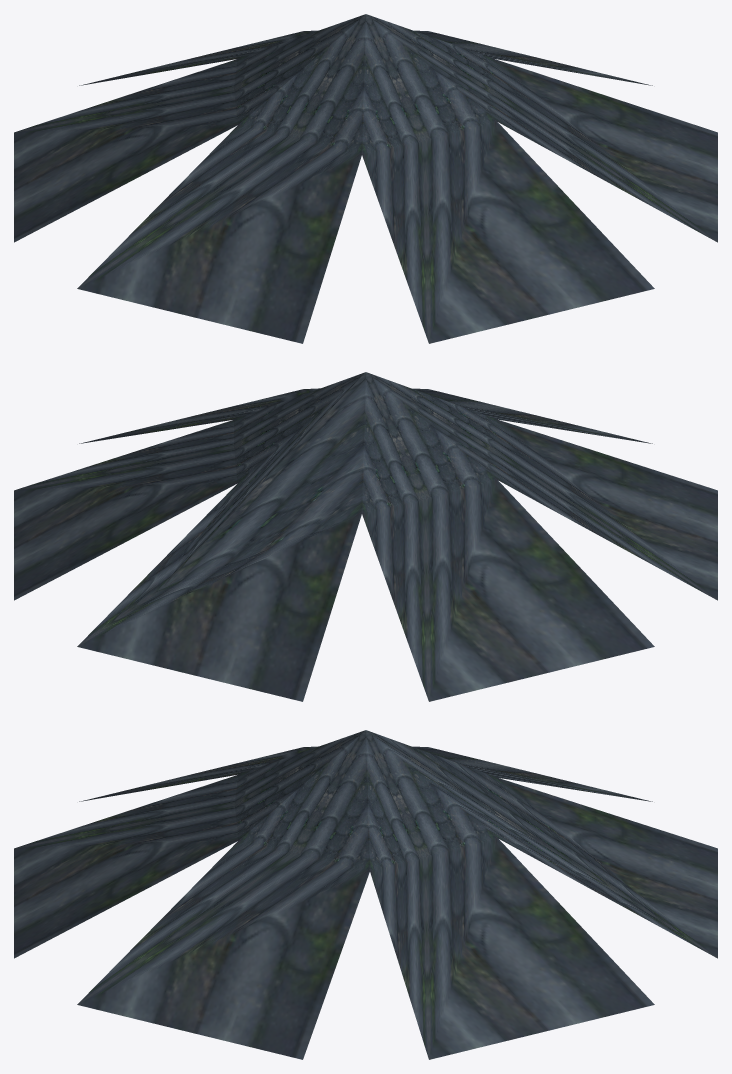
The model's file is BH04_dideng_02_1.FBX.
The picture shows the model from 3 angles, top to bottom: view 1: azimuth 30°, elevation 25°; view 2: azimuth 150°, elevation 25°; view 3: azimuth 270°, elevation 25°; orthographic projection.
Visible parts, largest first — view 1: BH04_dideng_02; view 2: BH04_dideng_02; view 3: BH04_dideng_02.
Boxes of the visible parts, box(x1,y1,x2,y2) form: BH04_dideng_02: box(14, 14, 717, 343); BH04_dideng_02: box(14, 372, 717, 701); BH04_dideng_02: box(14, 730, 717, 1059).
Bounding box in the file's own units: 211 × 201 × 54.57.
